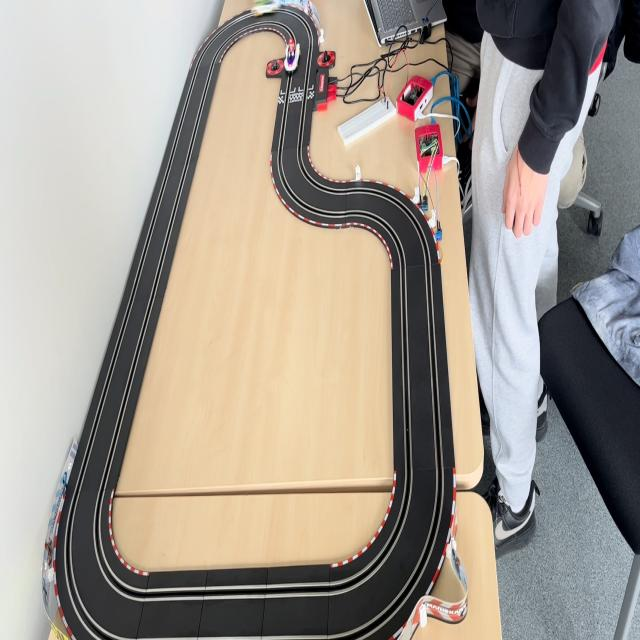mario: (283, 39, 301, 75)
yoshi: (251, 0, 282, 16)
